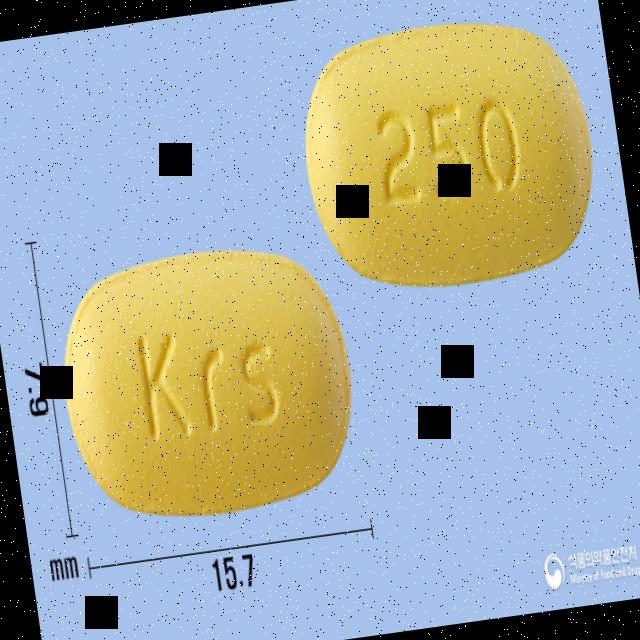Clomicin: (47, 232, 368, 534), (291, 5, 607, 306)
